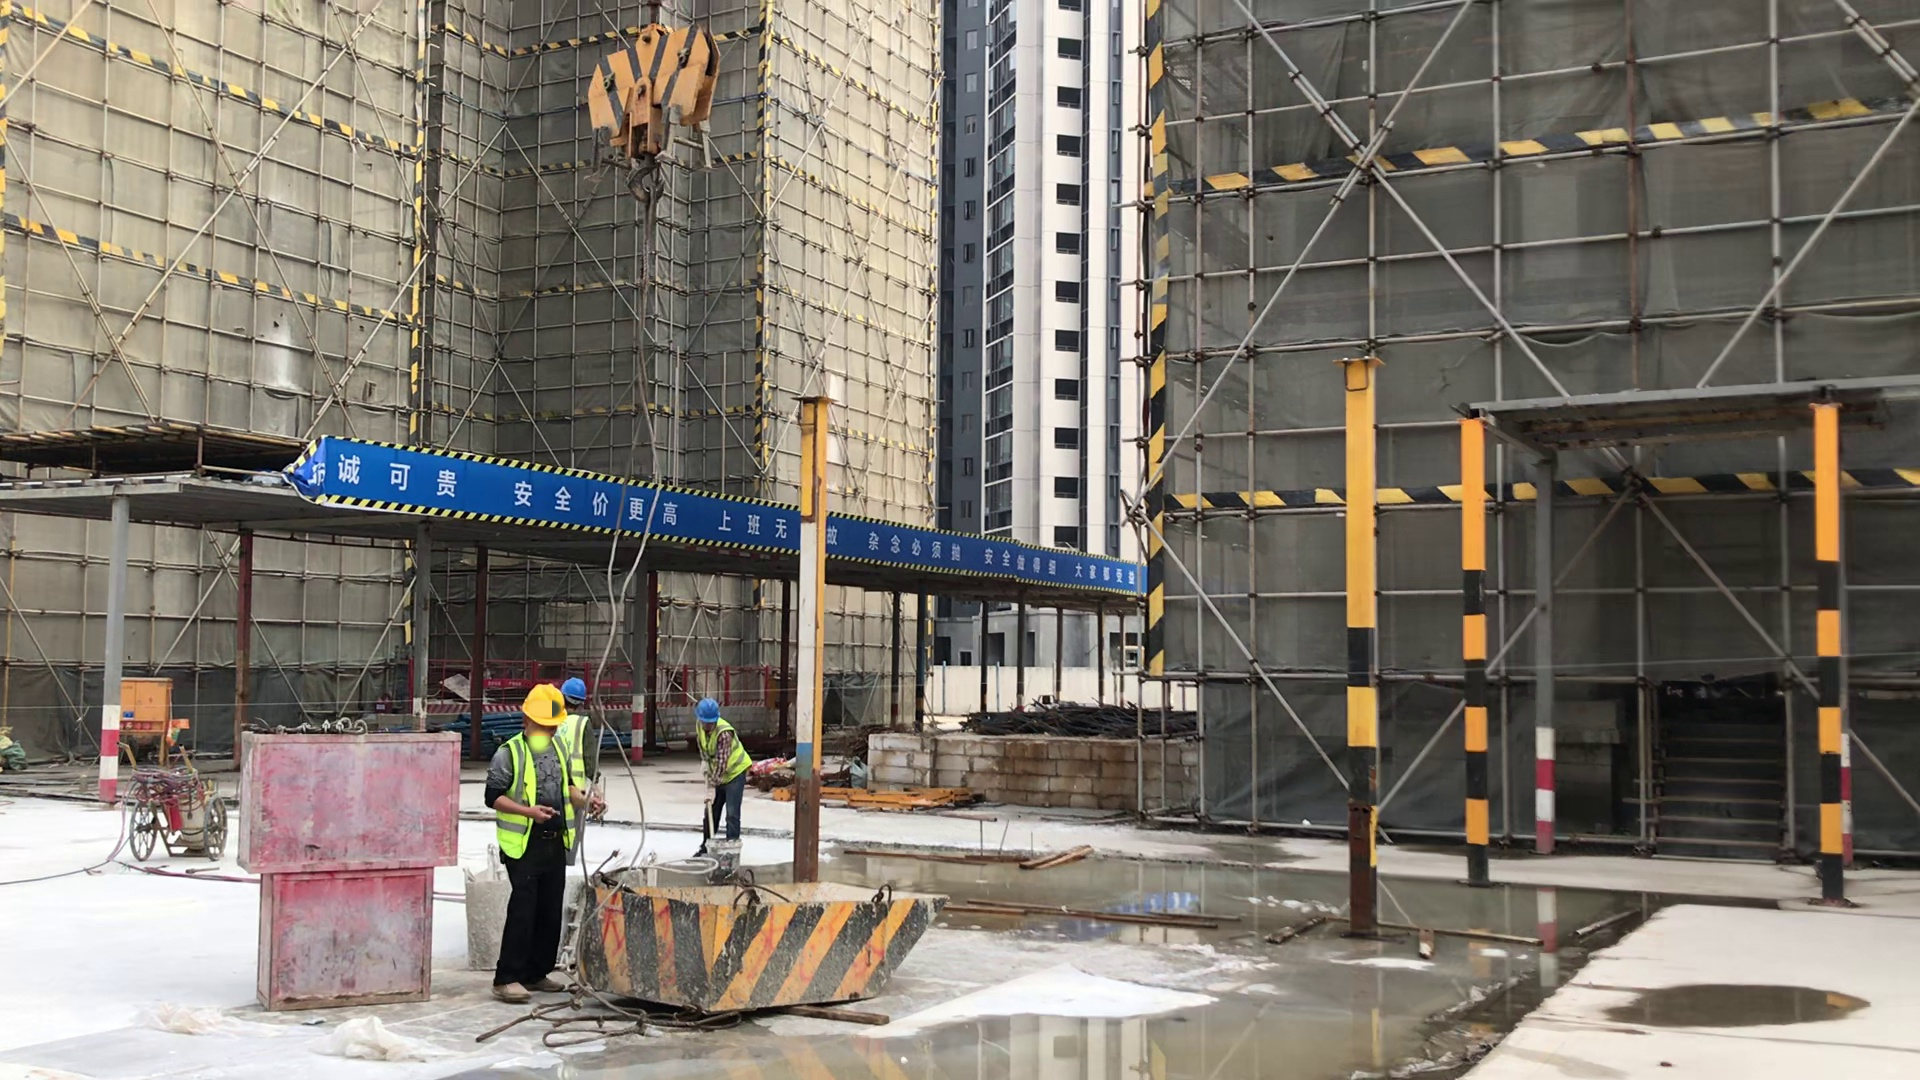ebox: (120, 675, 175, 771)
fence: (723, 664, 778, 708), (428, 657, 467, 715), (683, 661, 723, 696), (608, 660, 631, 709)
handcart: (118, 739, 228, 863)
helmet: (519, 683, 568, 727), (694, 698, 720, 723), (562, 679, 587, 701)
hook: (580, 13, 717, 204)
hopper: (592, 869, 951, 1026)
person: (486, 680, 612, 1009), (690, 695, 753, 861), (561, 677, 604, 802)
slogan: (325, 434, 800, 560), (830, 517, 1150, 591)
vest: (492, 732, 578, 858), (692, 720, 753, 783), (562, 712, 591, 792)
